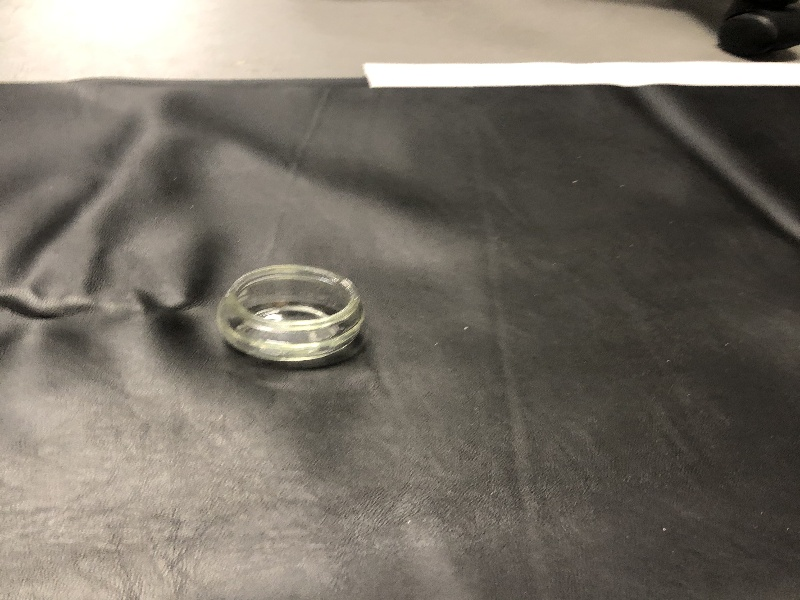glass: (204, 254, 384, 382)
